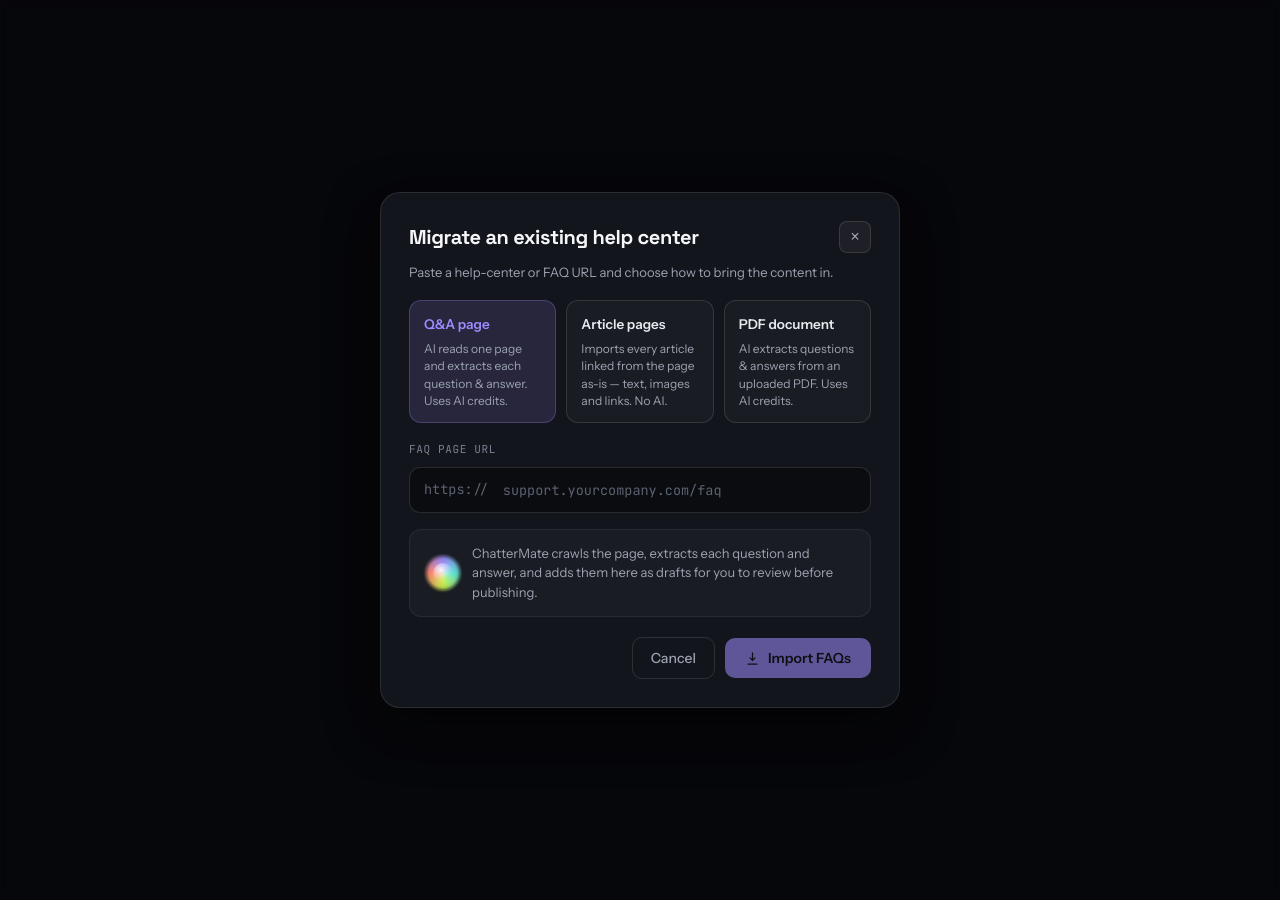
Scenario: FaqImportModal › resets the choice when the mode changes, so it cannot go stale
The image size is (1280, 900).
Step 1. Click the radio button that starts with "Article pages" → (640, 362), box [566,300,714,423]
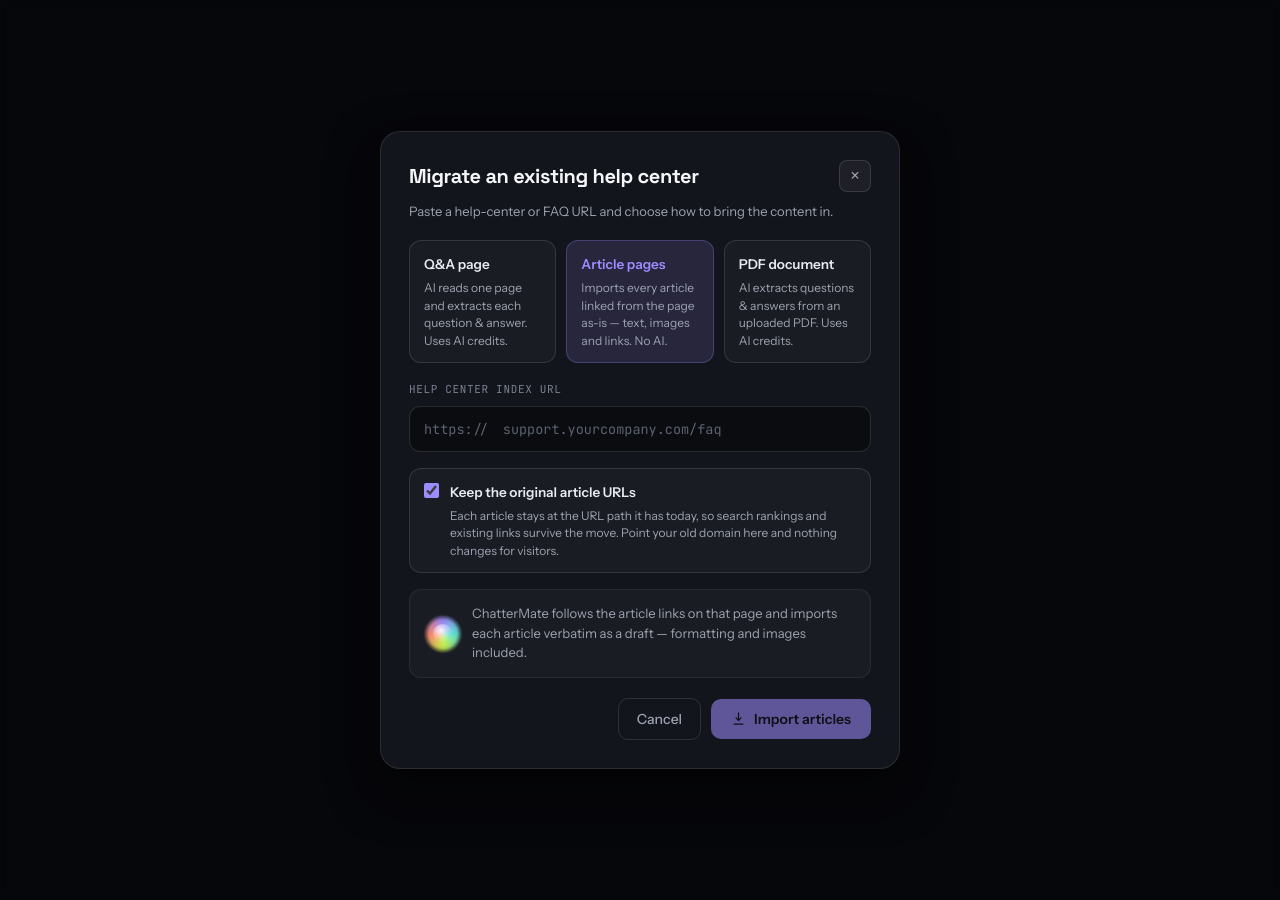
Step 2. Click the checkbox → (432, 491), box [424,484,439,498]
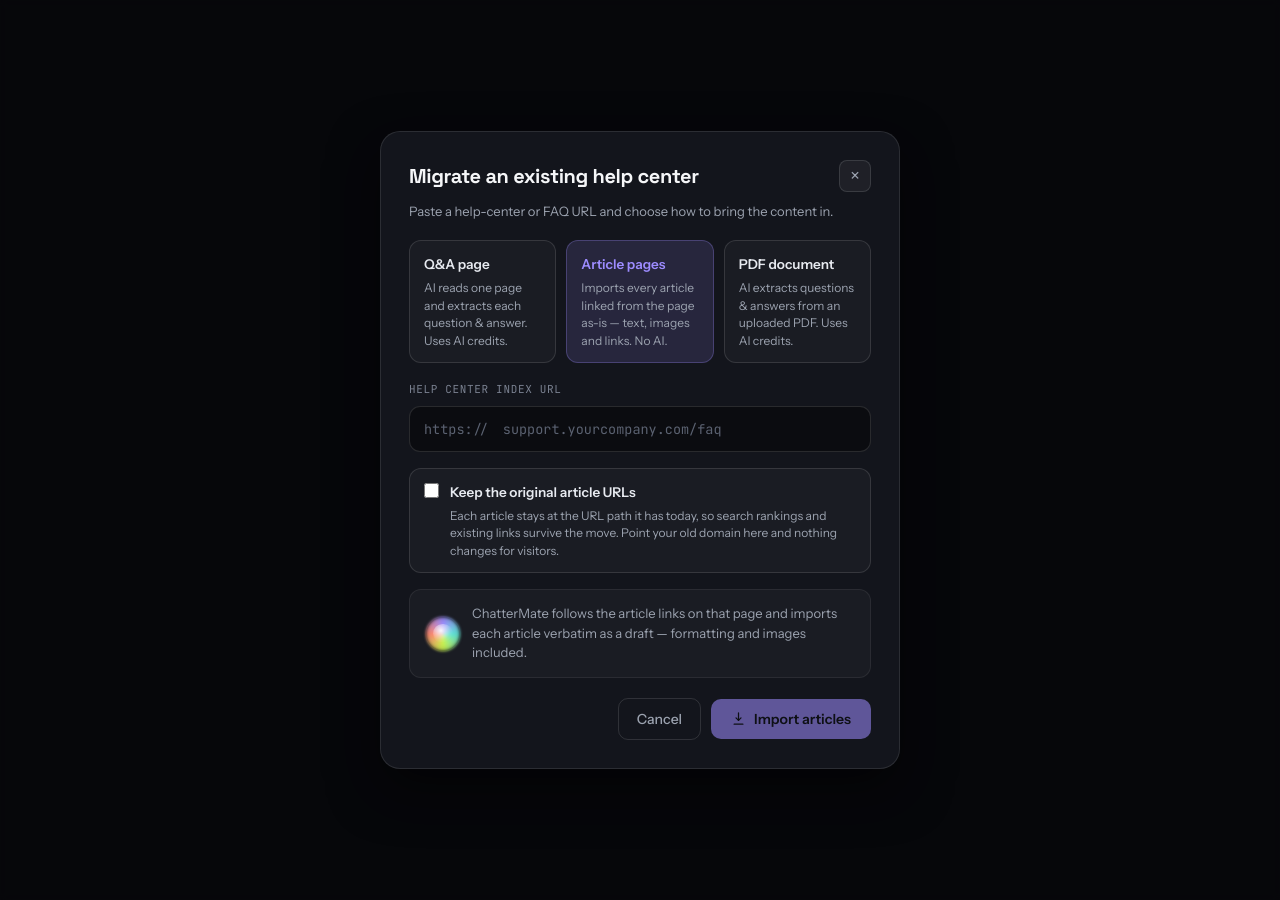
Step 3. Click the radio button that starts with "Q&A page" → (483, 301), box [409,240,556,363]
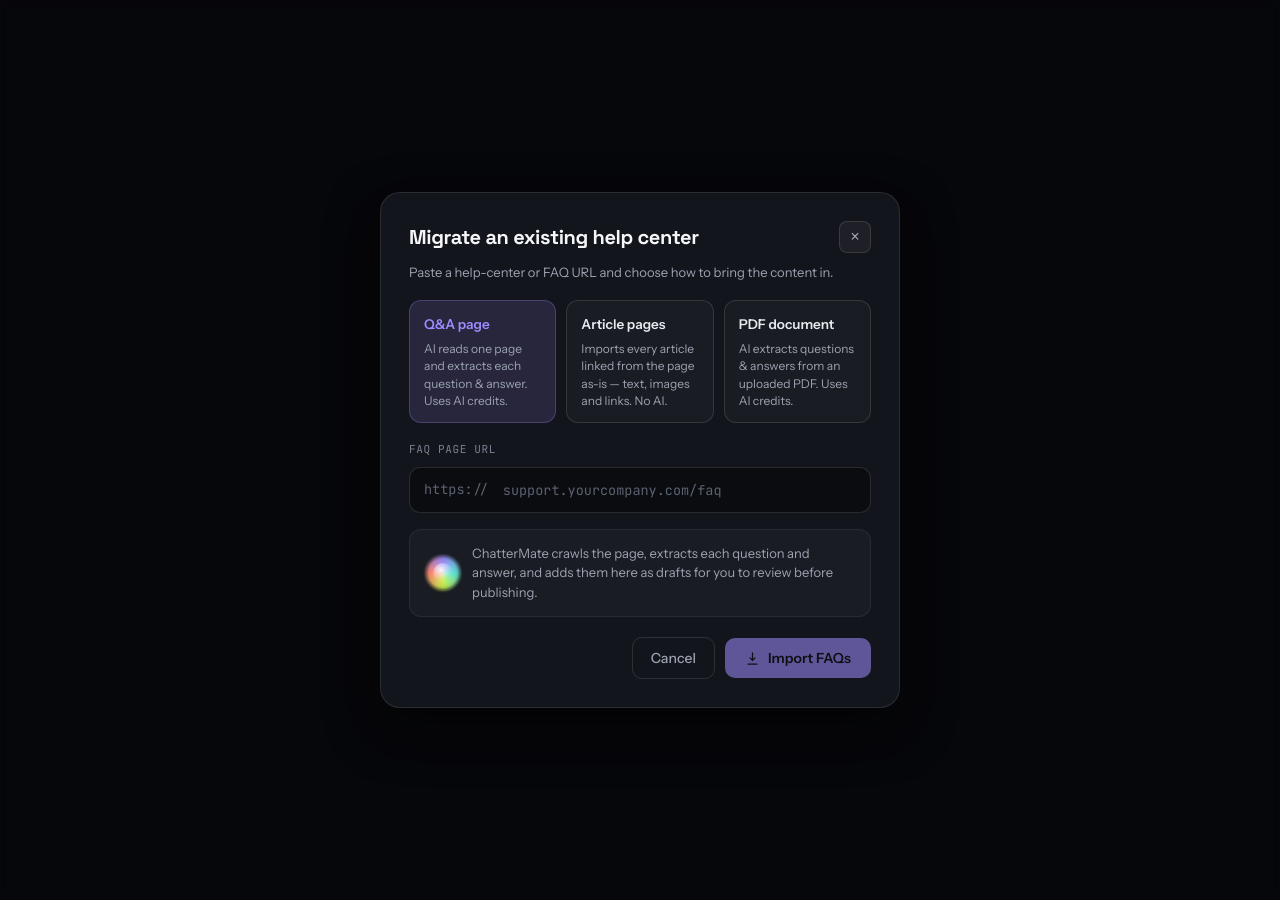
Step 4. Click the radio button that starts with "Article pages" → (640, 362), box [566,300,714,423]
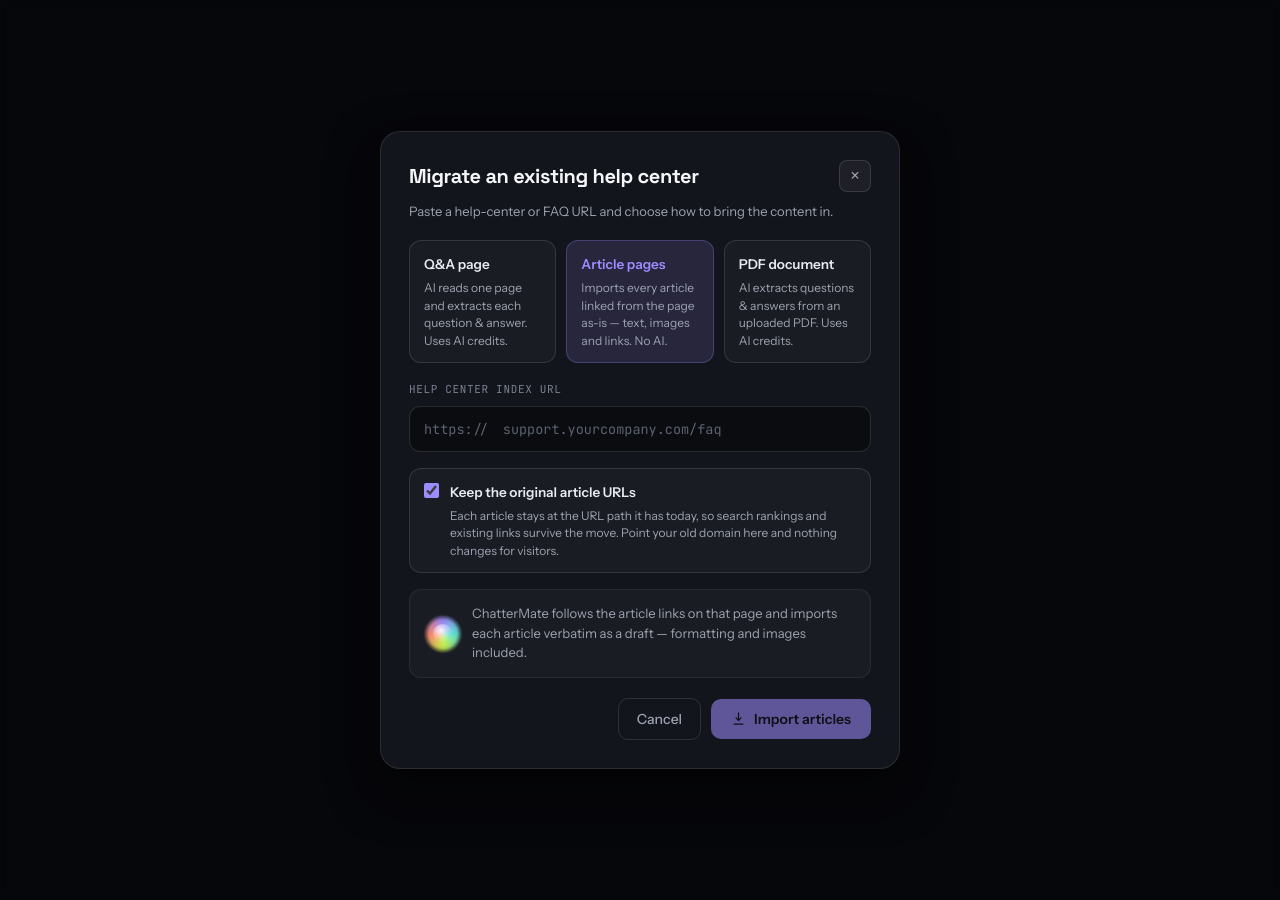
Now the checkbox is checked, box [424,484,439,498]
